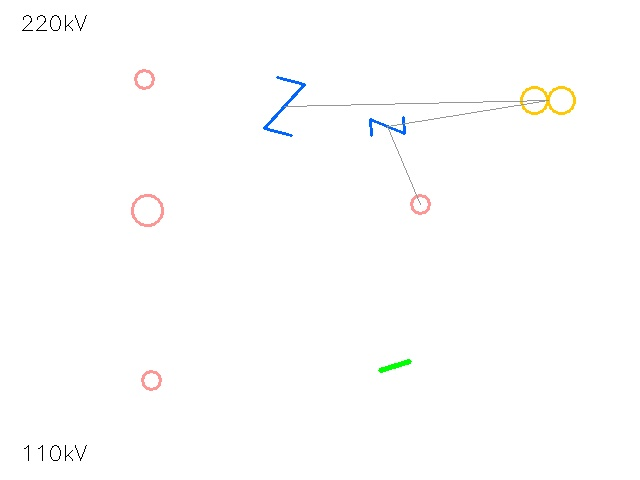busbar: (376, 347, 414, 385)
circuit_breaker: (255, 77, 313, 135), (369, 108, 405, 144)
disconnect_switch: (125, 60, 163, 98)
fuse: (117, 180, 177, 240), (132, 361, 170, 399), (402, 186, 438, 222)
transformer_2w: (515, 67, 581, 133)
